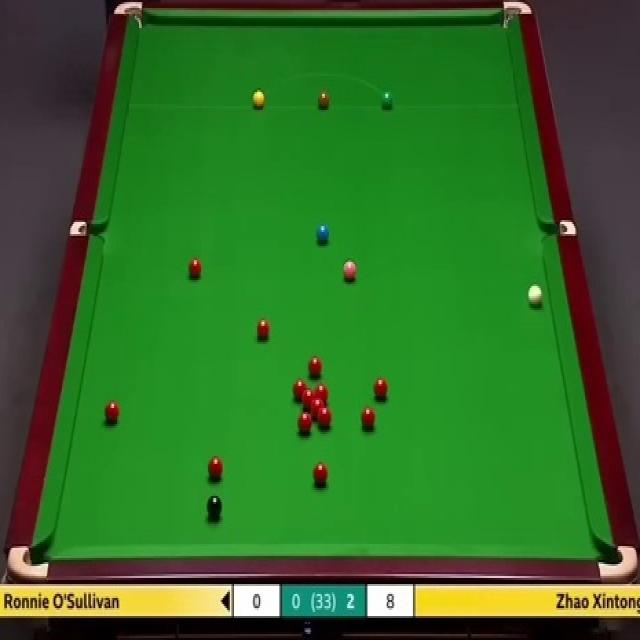black-ball: (207, 496, 223, 523)
blue-ball: (316, 222, 330, 245)
brown-ball: (318, 88, 330, 110)
green-ball: (380, 92, 393, 111)
pink-ball: (343, 260, 357, 281)
red-ball: (372, 375, 389, 403), (360, 406, 378, 432), (104, 398, 120, 425), (254, 316, 270, 342), (313, 461, 328, 487), (208, 456, 224, 480), (297, 411, 312, 436), (308, 356, 322, 380), (292, 378, 306, 402), (318, 406, 332, 429), (188, 257, 202, 278), (302, 389, 315, 408), (316, 384, 328, 404), (311, 399, 324, 417)
white-ball: (526, 279, 546, 311)
yellow-ball: (252, 90, 265, 111)
